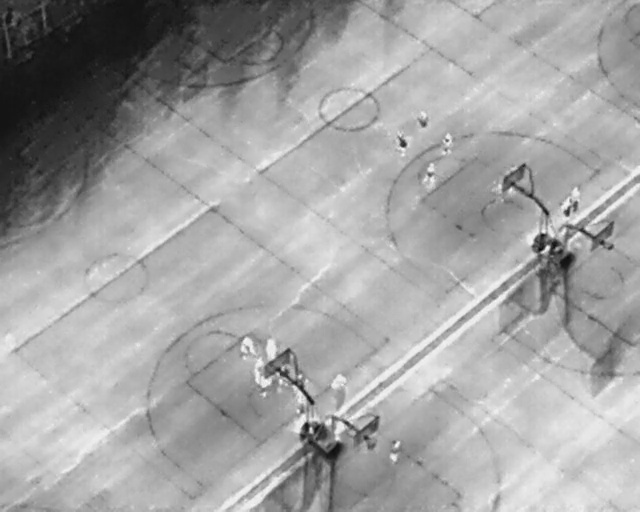Person: (423, 161, 437, 190), (241, 335, 256, 359), (265, 334, 278, 361), (332, 372, 345, 398), (571, 187, 582, 216), (416, 110, 430, 132), (389, 438, 401, 463), (260, 369, 271, 396), (397, 131, 408, 157), (441, 132, 453, 153), (253, 357, 263, 382), (563, 197, 573, 218)
